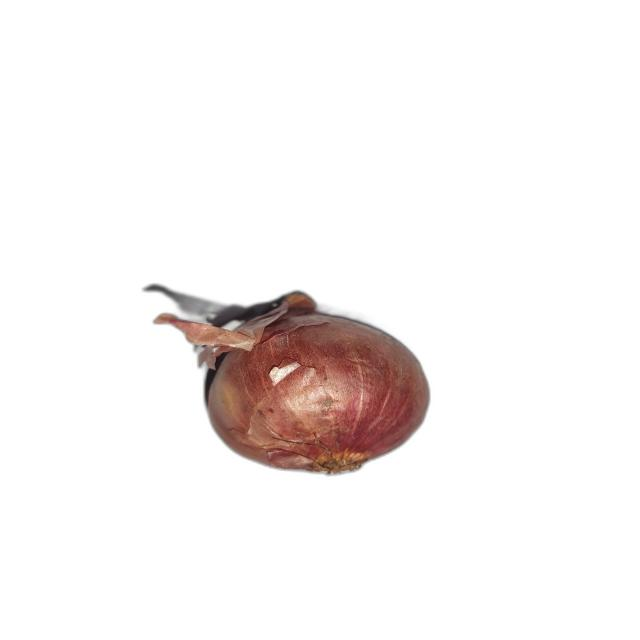onion: (152, 292, 432, 474)
